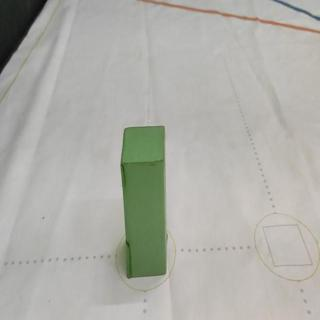greenbox: (121, 125, 167, 279)
